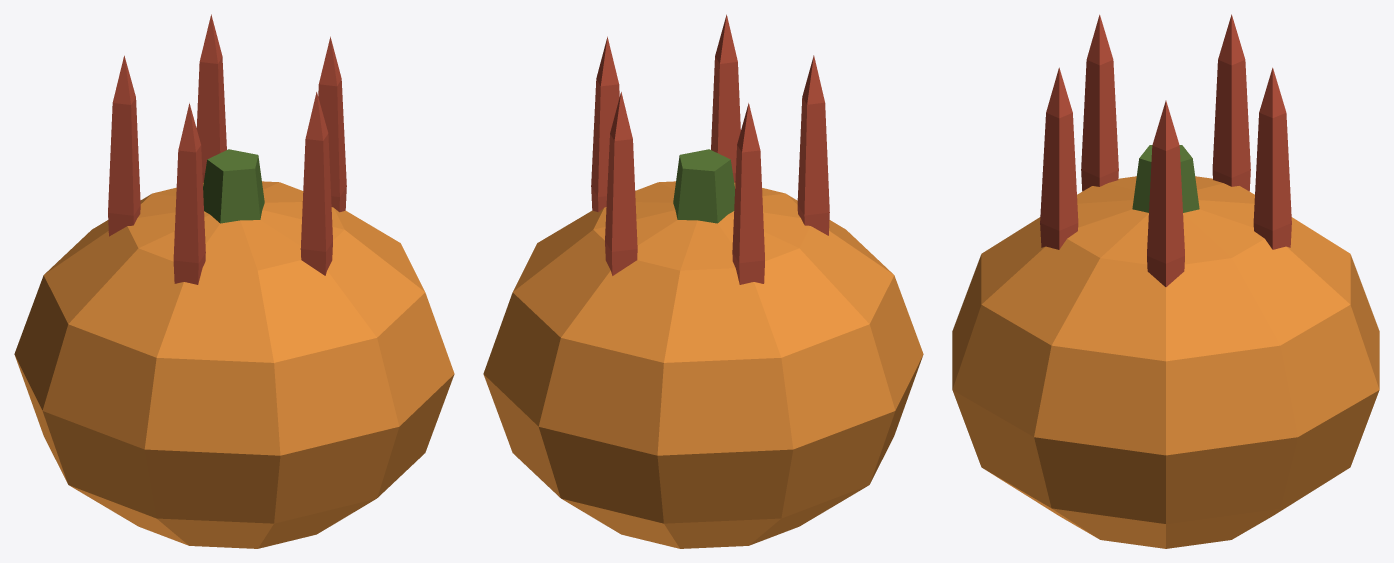
Rendered from pumpkin.glb.
The picture shows the model from 3 angles, left to right: view 1: azimuth 30°, elevation 25°; view 2: azimuth 150°, elevation 25°; view 3: azimuth 270°, elevation 25°; orthographic projection.
Parts seen in each view (by area): view 1: pumpkin; view 2: pumpkin; view 3: pumpkin.
Part boxes in pixels (box(x1,y1,x2,y2)): pumpkin: box(14, 14, 454, 548); pumpkin: box(483, 14, 923, 548); pumpkin: box(952, 14, 1379, 548).
Bounding box in the file's own units: 0.8008 × 0.9268 × 0.7617.
